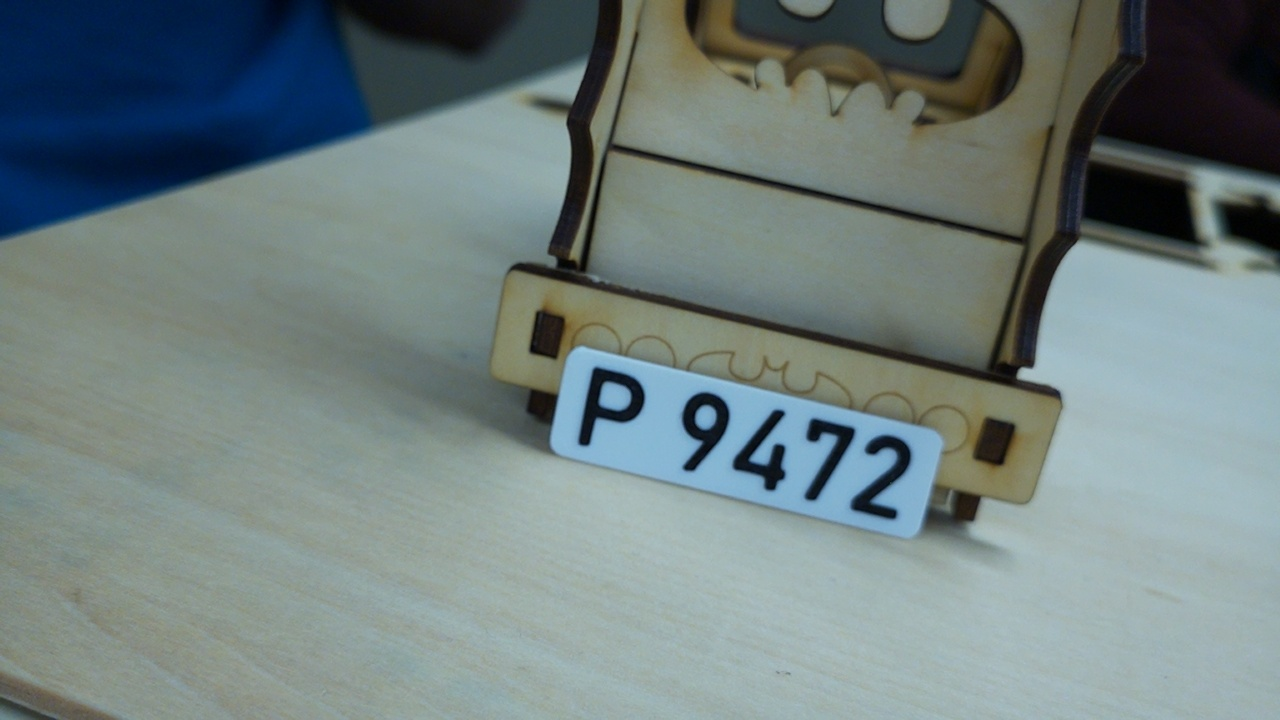license_plate: (545, 343, 946, 543)
